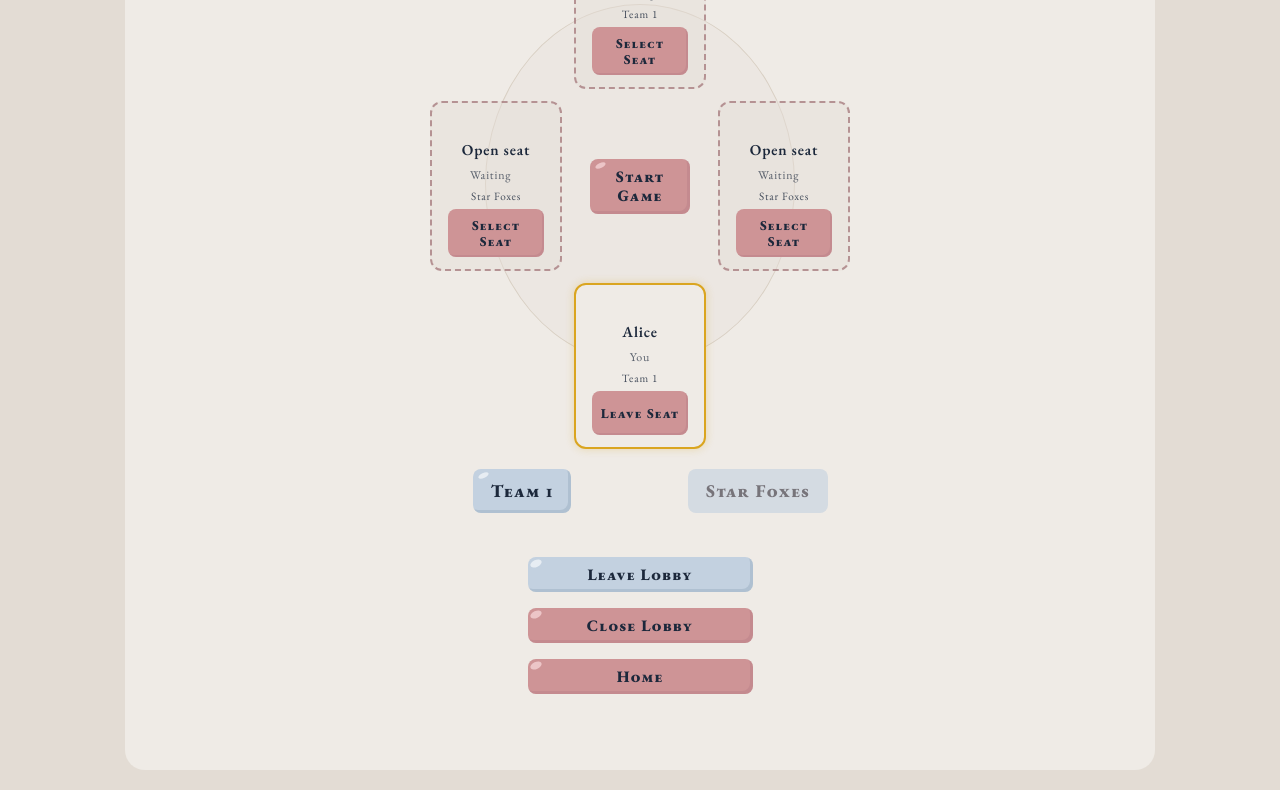
Test case: opens the mobile name popup only when requested and saves with Enter
(page scrolled)
Expected: the field labelled "Team 1 name" is not shown
Expected: the button "Star Foxes" is disabled, [688,469,828,513]
Click the button with aria-label "Edit Team 1 name" at (522, 491), box [473,469,571,513]
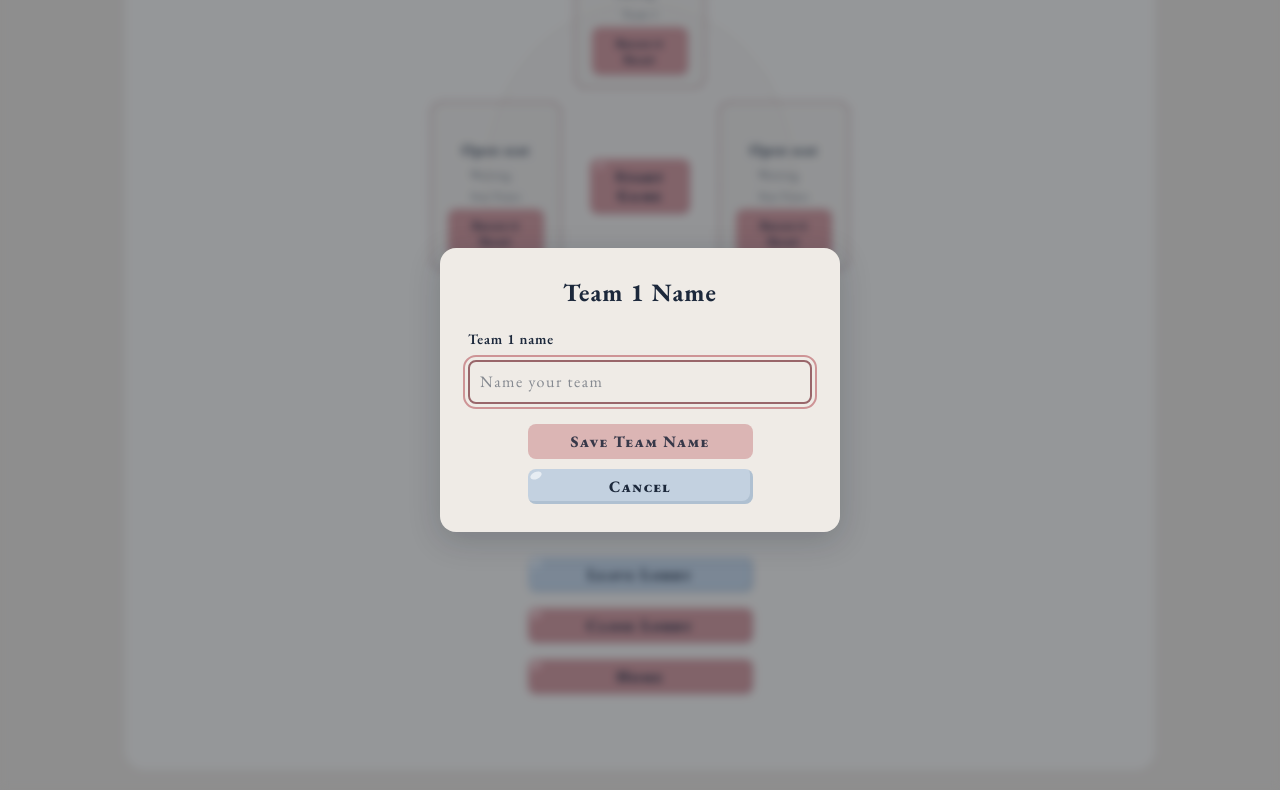
Expected: the button "Save Team Name" is disabled, [528,424,752,459]
Type "Moon Cats" into the field labelled "Team 1 name" at (640, 382), box [468,360,812,404]
Then press Enter
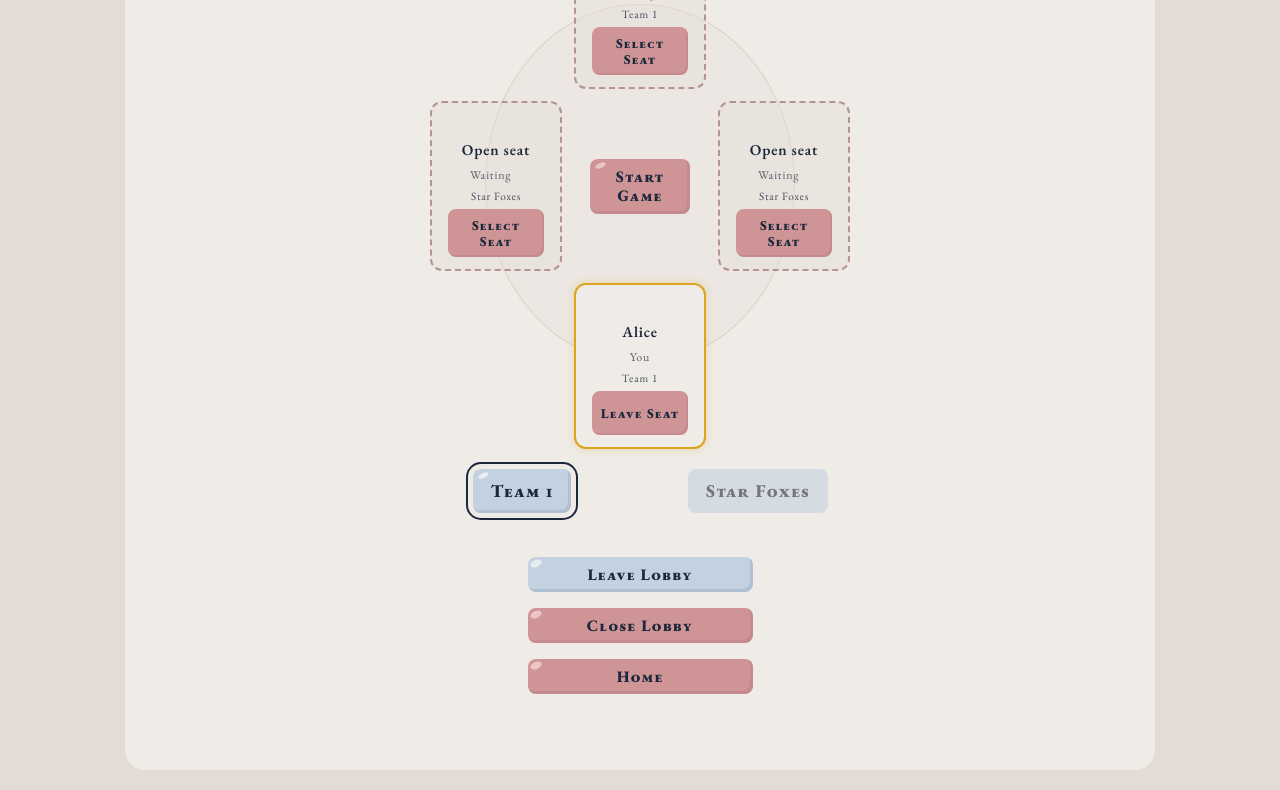
Expected: the dialog is gone
